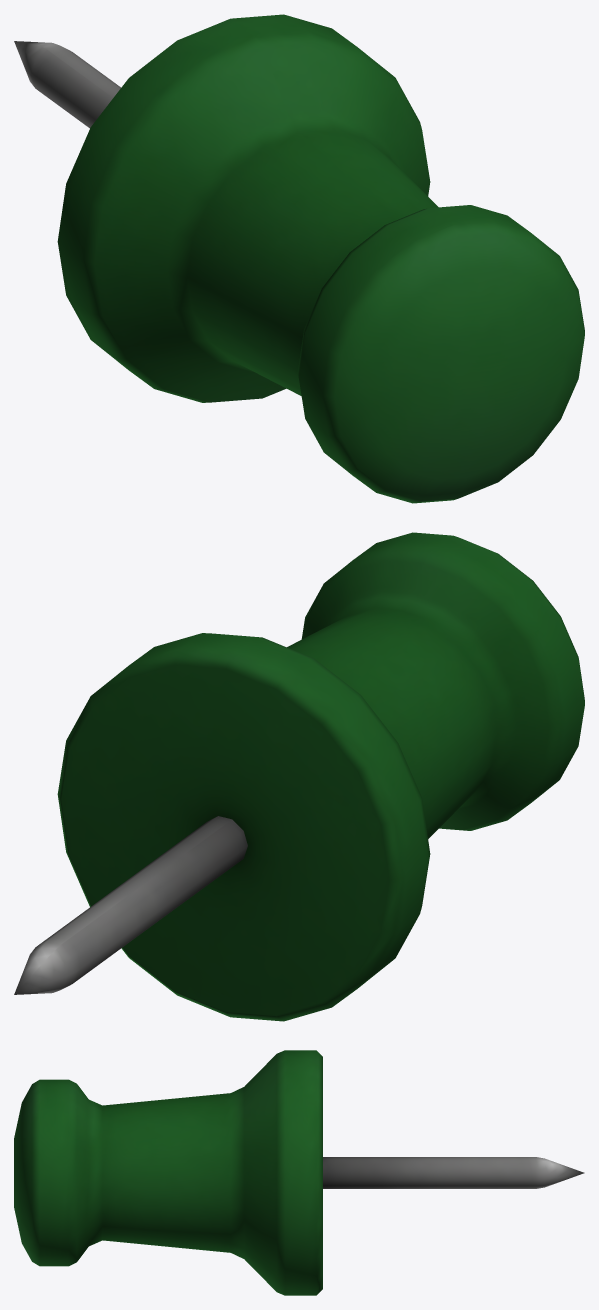
The model's file is ChristmasRoom_PinGreen.fbx.
3 views of the same model, one above another, from view 1: azimuth 30°, elevation 25°; view 2: azimuth 150°, elevation 25°; view 3: azimuth 270°, elevation 25° (orthographic). The views are drawn at different scales.
Parts seen in each view (by area): view 1: ChristmasRoom_PinGreen; view 2: ChristmasRoom_PinGreen; view 3: ChristmasRoom_PinGreen.
Boxes of the visible parts, box(x1,y1,x2,y2) form: ChristmasRoom_PinGreen: box(14, 14, 584, 503); ChristmasRoom_PinGreen: box(14, 532, 584, 1021); ChristmasRoom_PinGreen: box(14, 1050, 584, 1295).
Bounding box in the file's own units: 2 × 2 × 4.62.
